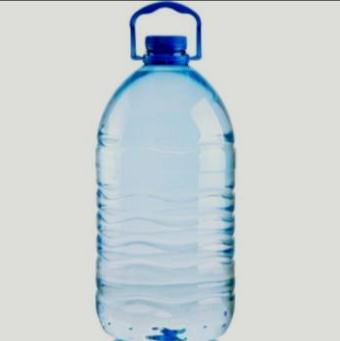bottle: (92, 2, 238, 341)
